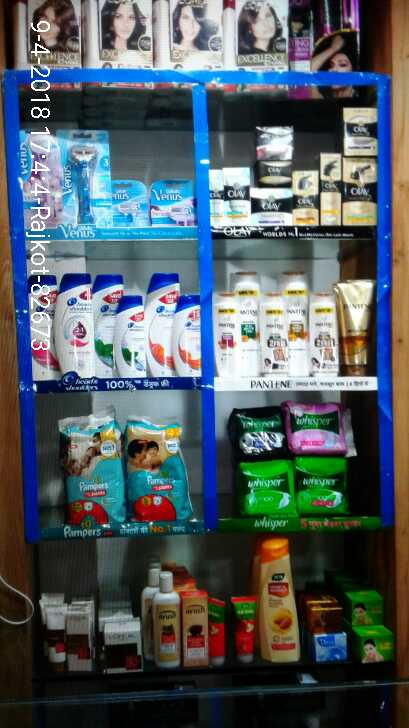venus: (66, 121, 111, 224), (153, 180, 195, 227), (113, 181, 153, 226)
